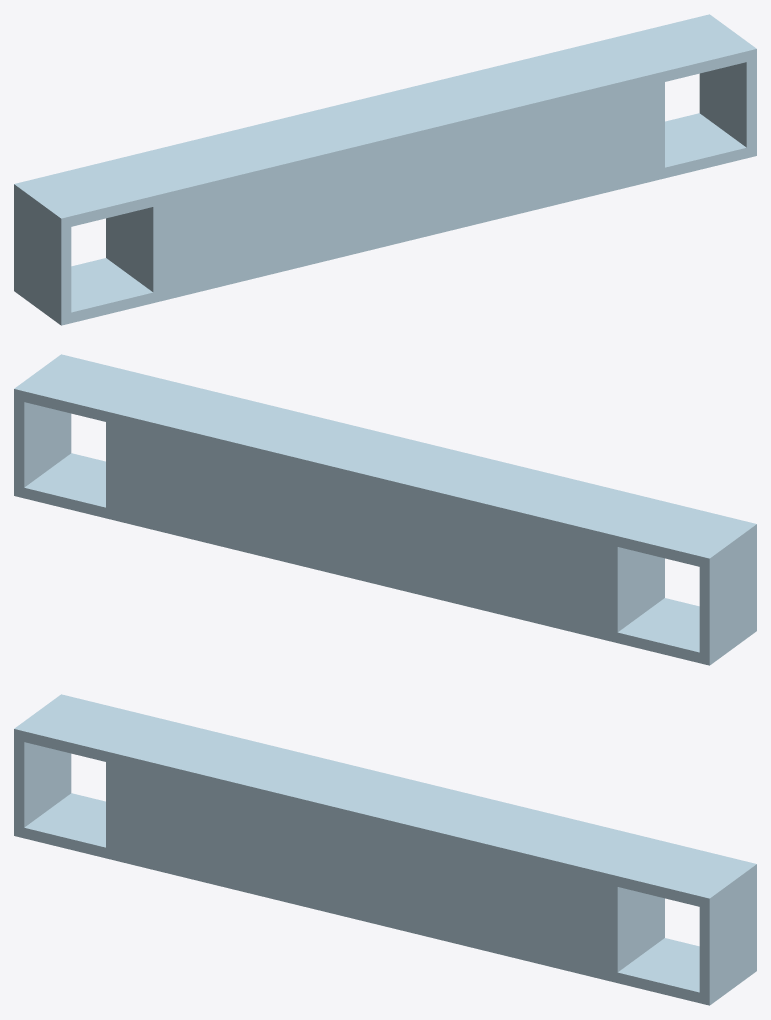
File: X Gantry.gltf
3 renders of one model, top to bottom at view 1: azimuth 30°, elevation 25°; view 2: azimuth 150°, elevation 25°; view 3: azimuth 330°, elevation 25°, orthographic.
Parts seen in each view (by area): view 1: mesh61, mesh67, mesh68, mesh63, mesh60, mesh64, mesh57; view 2: mesh62, mesh67, mesh68, mesh63, mesh60, mesh64, mesh57; view 3: mesh61, mesh67, mesh66, mesh58, mesh65, mesh57, mesh64.
Boxes of the visible parts, x1,y1,x2,y2 form: mesh61: [61, 49, 756, 325]; mesh67: [14, 14, 756, 218]; mesh68: [14, 184, 61, 325]; mesh63: [106, 207, 153, 291]; mesh60: [699, 62, 746, 147]; mesh64: [71, 258, 152, 312]; mesh57: [665, 113, 746, 167]; mesh62: [14, 389, 709, 665]; mesh67: [14, 354, 756, 558]; mesh68: [709, 524, 756, 665]; mesh63: [617, 547, 664, 631]; mesh60: [24, 402, 71, 487]; mesh64: [618, 598, 699, 652]; mesh57: [24, 453, 105, 507]; mesh61: [14, 729, 709, 1005]; mesh67: [14, 694, 756, 898]; mesh66: [709, 864, 756, 1005]; mesh58: [617, 887, 664, 971]; mesh65: [24, 742, 71, 827]; mesh57: [618, 938, 699, 992]; mesh64: [24, 793, 105, 847].
Size of the model in its own units: 0.34 by 0.05 by 0.04.
